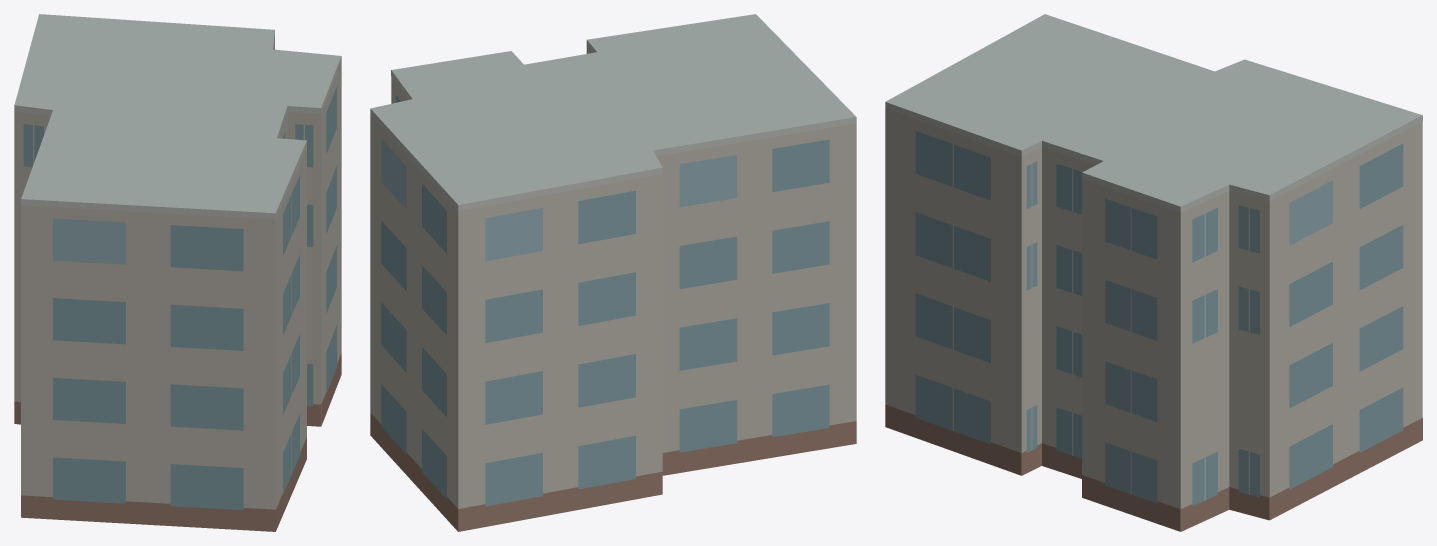
File: survey-upis-32968012.glb
3 views of the same model, side by side, from view 1: azimuth 30°, elevation 25°; view 2: azimuth 150°, elevation 25°; view 3: azimuth 270°, elevation 25° (orthographic). The views are drawn at different scales.
Visible parts, largest first — view 1: survey-upis-32968012.tmp; view 2: survey-upis-32968012.tmp; view 3: survey-upis-32968012.tmp.
Boxes of the visible parts, box(x1,y1,x2,y2) form: survey-upis-32968012.tmp: box(14, 14, 341, 531); survey-upis-32968012.tmp: box(370, 14, 856, 531); survey-upis-32968012.tmp: box(885, 14, 1422, 531).
Size of the model in its own units: 16.15 by 12.7 by 19.03.
